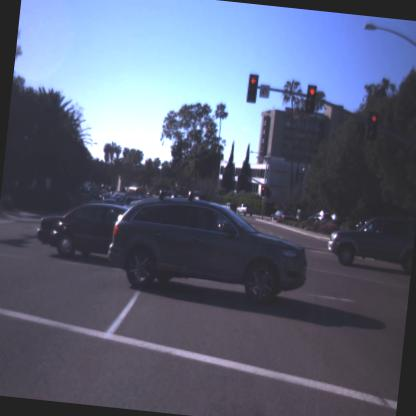trafficlight: (364, 112, 382, 142), (303, 81, 318, 116), (246, 72, 261, 104)
